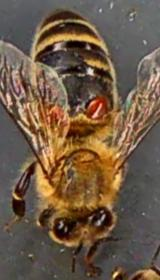varroa_mite: (78, 98, 108, 120)
